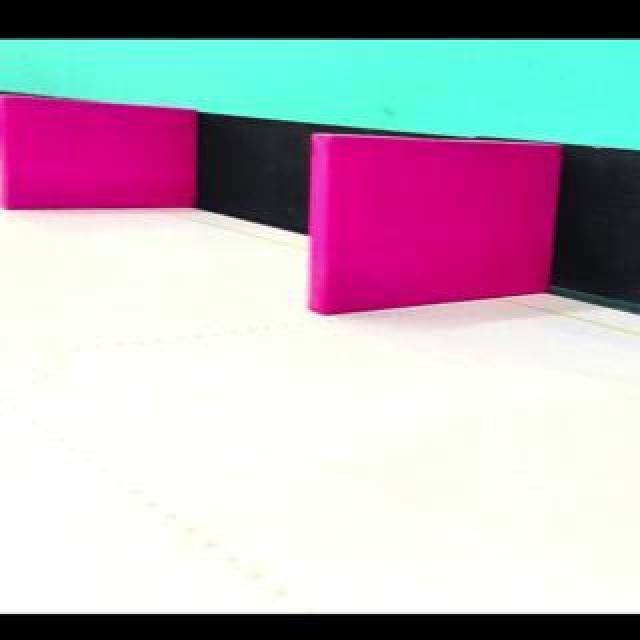xparking: (319, 140, 565, 313), (5, 110, 193, 206)
